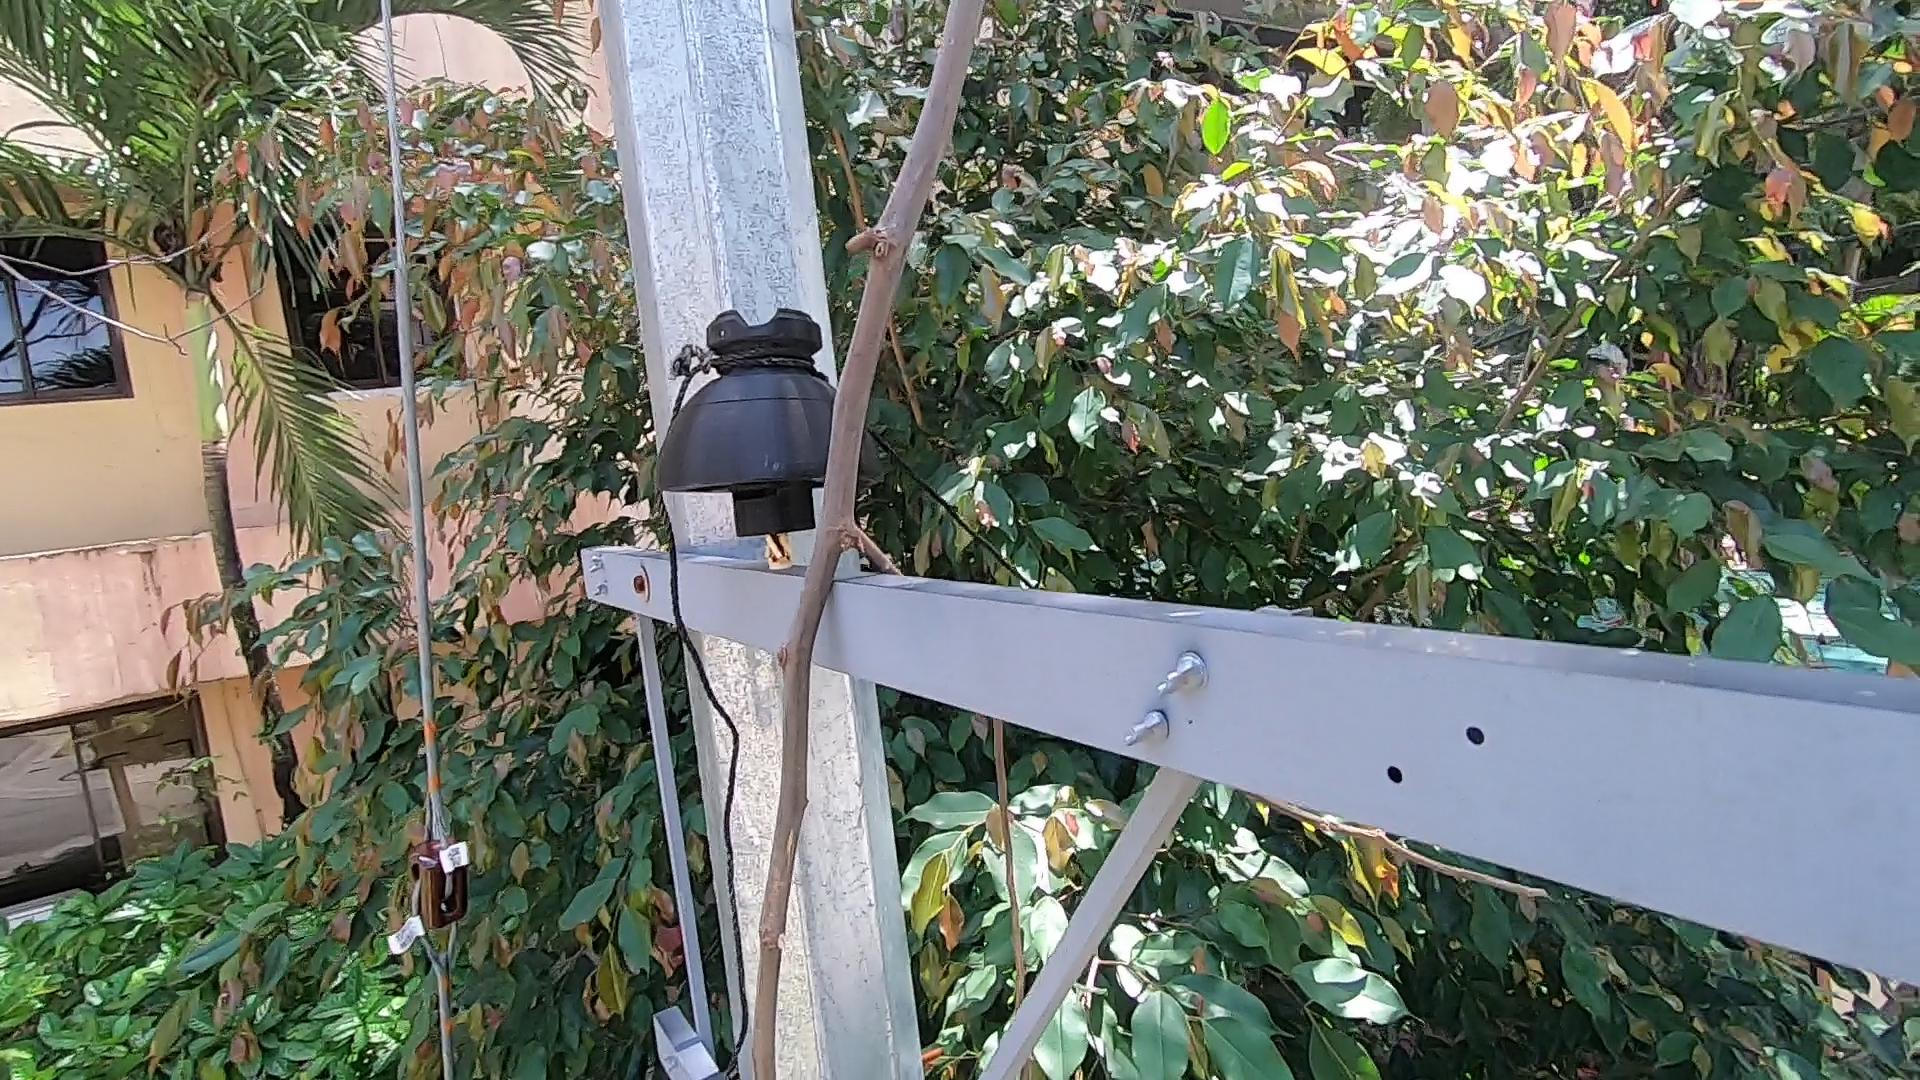tree branch: (683, 11, 981, 1080)
